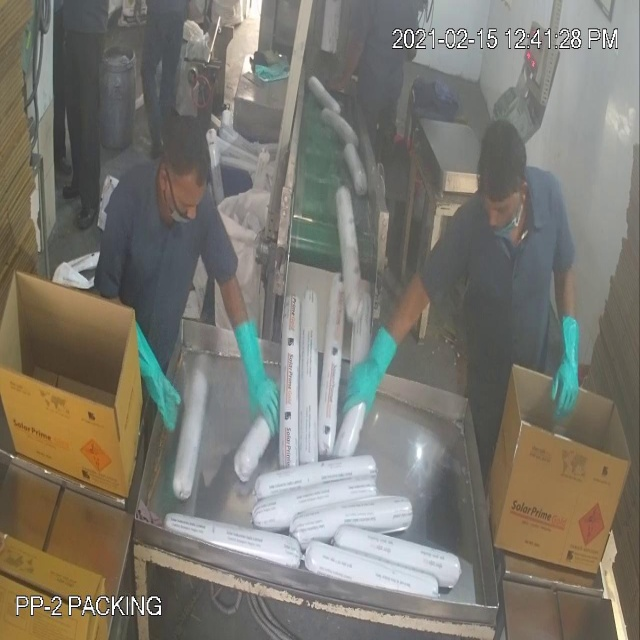Guantes: (229, 307, 284, 470), (120, 308, 183, 440), (345, 318, 400, 437), (544, 313, 587, 433)
Sin_guantes: (325, 31, 361, 100)
